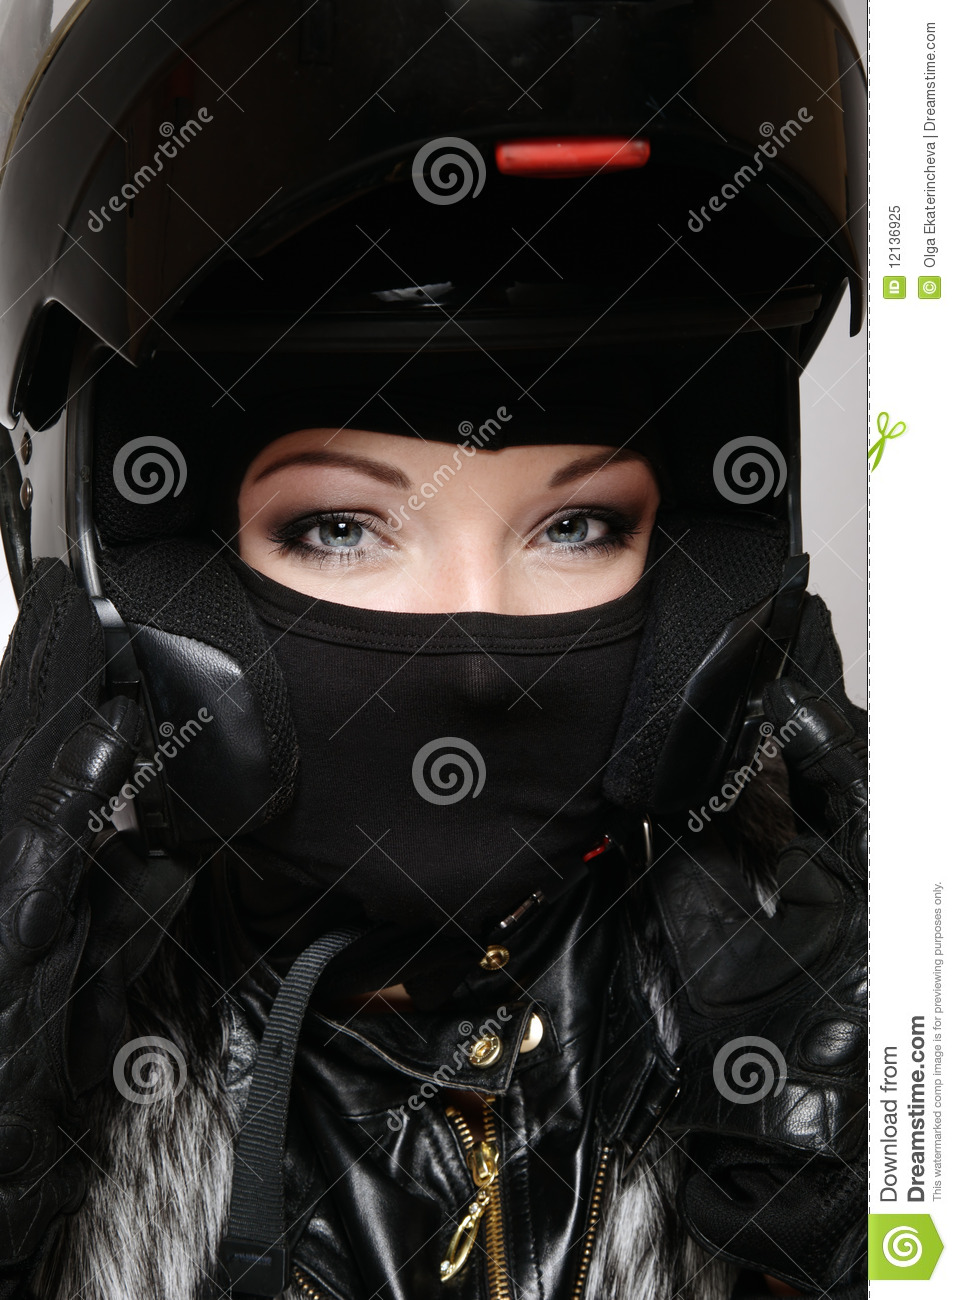helmet: (6, 13, 856, 821)
